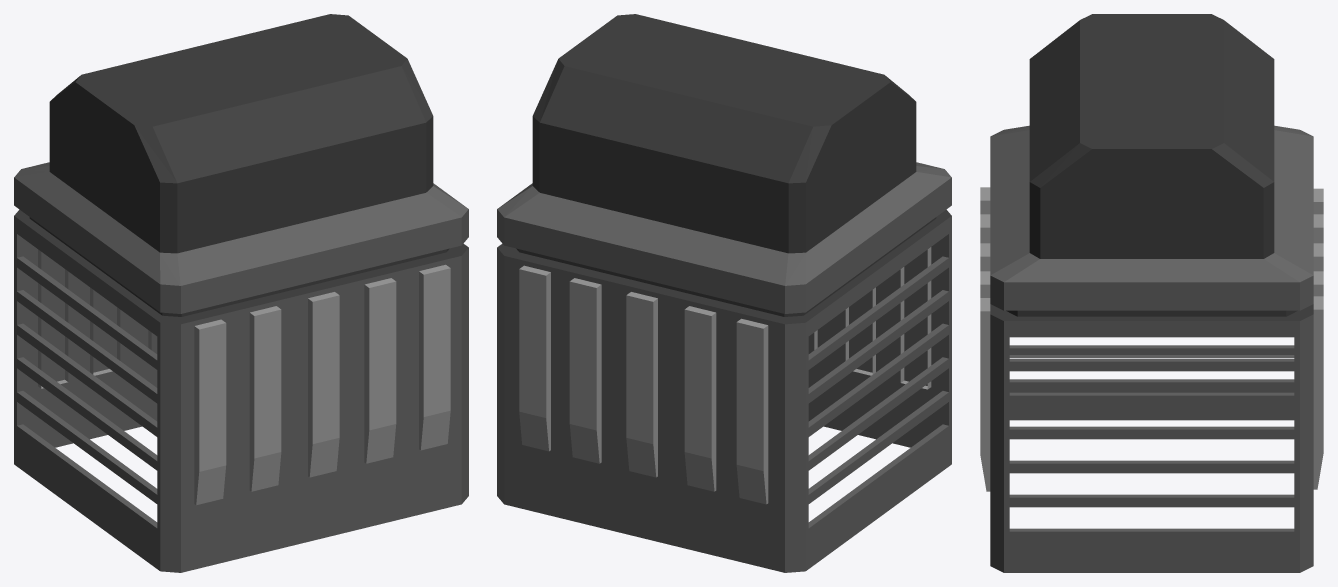
Rendered from building_G.FBX.
The picture shows the model from 3 angles, left to right: view 1: azimuth 30°, elevation 25°; view 2: azimuth 150°, elevation 25°; view 3: azimuth 270°, elevation 25°; orthographic projection.
Visible parts, largest first — view 1: factory_building_G; view 2: factory_building_G; view 3: factory_building_G.
Part boxes in pixels (left/top/right/bottom): factory_building_G: left=14, top=14, right=468, bottom=572; factory_building_G: left=497, top=14, right=951, bottom=572; factory_building_G: left=980, top=14, right=1323, bottom=572.
Size of the model in its own units: 2172 by 2757 by 2064.
